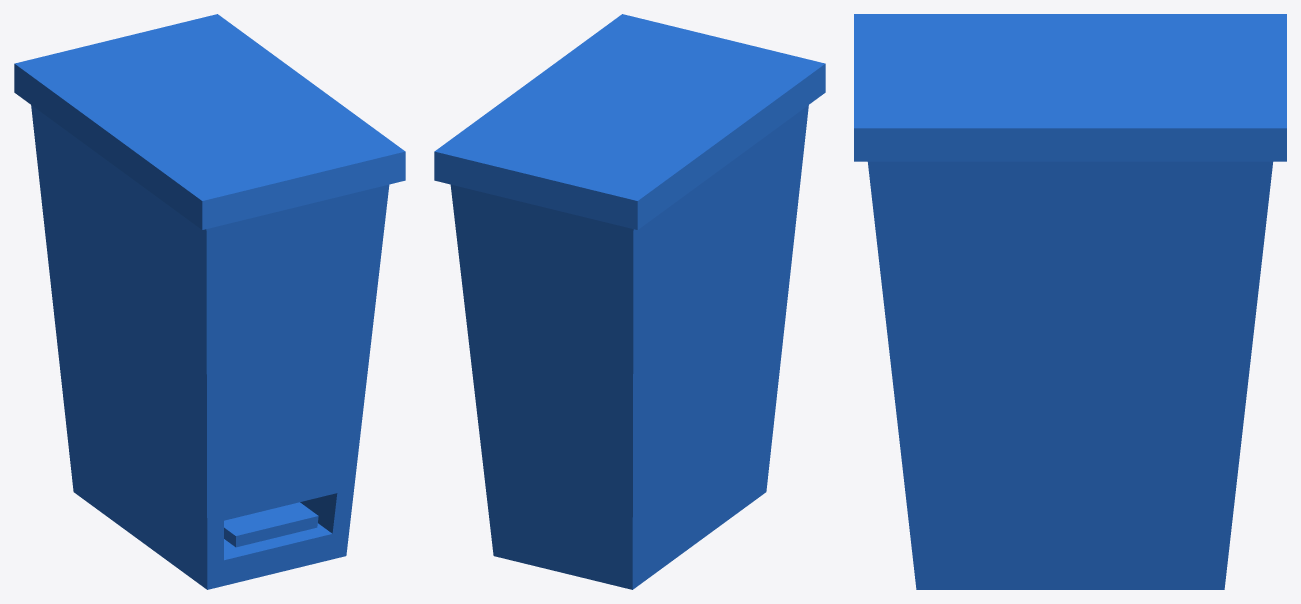
The model's file is TrashCan_2c.fbx.
3 renders of one model, left to right at view 1: azimuth 30°, elevation 25°; view 2: azimuth 150°, elevation 25°; view 3: azimuth 270°, elevation 25°, orthographic. The views are drawn at different scales.
Parts seen in each view (by area): view 1: TrashCan_2c; view 2: TrashCan_2c; view 3: TrashCan_2c.
Part boxes in pixels (bbox=[...]): TrashCan_2c: bbox=[14, 14, 405, 589]; TrashCan_2c: bbox=[434, 14, 825, 589]; TrashCan_2c: bbox=[854, 14, 1286, 589].
Size of the model in its own units: 0.2635 by 0.5161 by 0.422.
